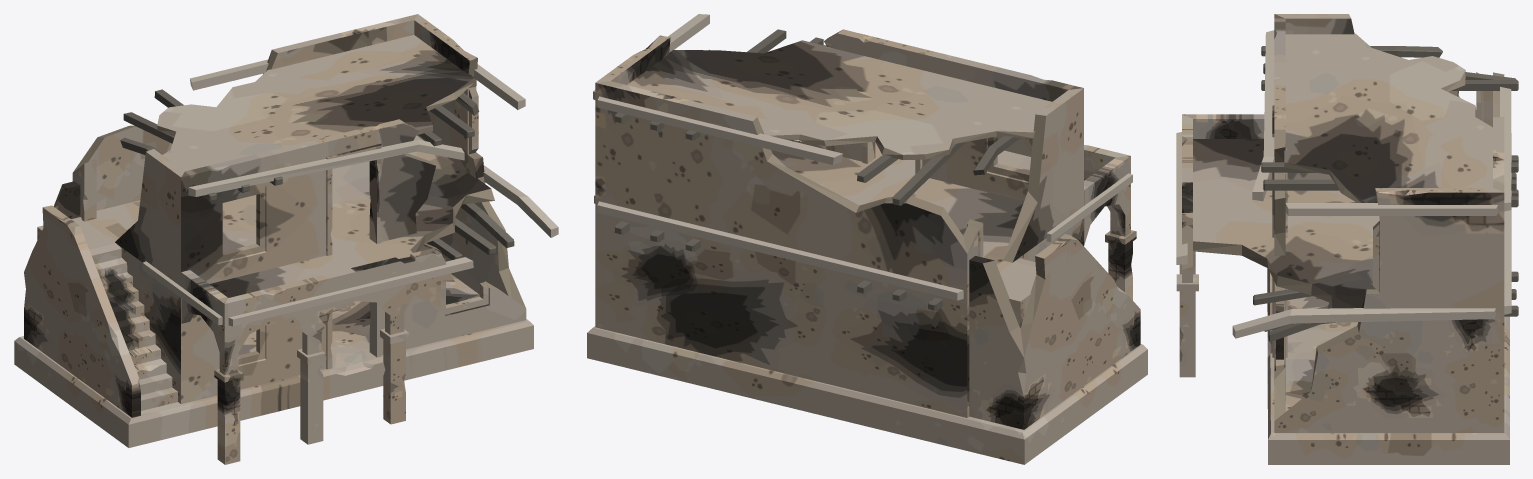
File: SM_Bld_Village_House_03_Destroyed.glb
The picture shows the model from 3 angles, left to right: view 1: azimuth 30°, elevation 25°; view 2: azimuth 150°, elevation 25°; view 3: azimuth 270°, elevation 25°; orthographic projection. The views are drawn at different scales.
Parts seen in each view (by area): view 1: SM_Bld_Village_House_03_Destroyed; view 2: SM_Bld_Village_House_03_Destroyed; view 3: SM_Bld_Village_House_03_Destroyed.
Boxes of the visible parts, x1,y1,x2,y2 form: SM_Bld_Village_House_03_Destroyed: (14,14,558,464); SM_Bld_Village_House_03_Destroyed: (587,14,1147,464); SM_Bld_Village_House_03_Destroyed: (1176,14,1518,464).
Size of the model in its own units: 11.49 by 6.74 by 7.74.
1 material, 1 textured.
